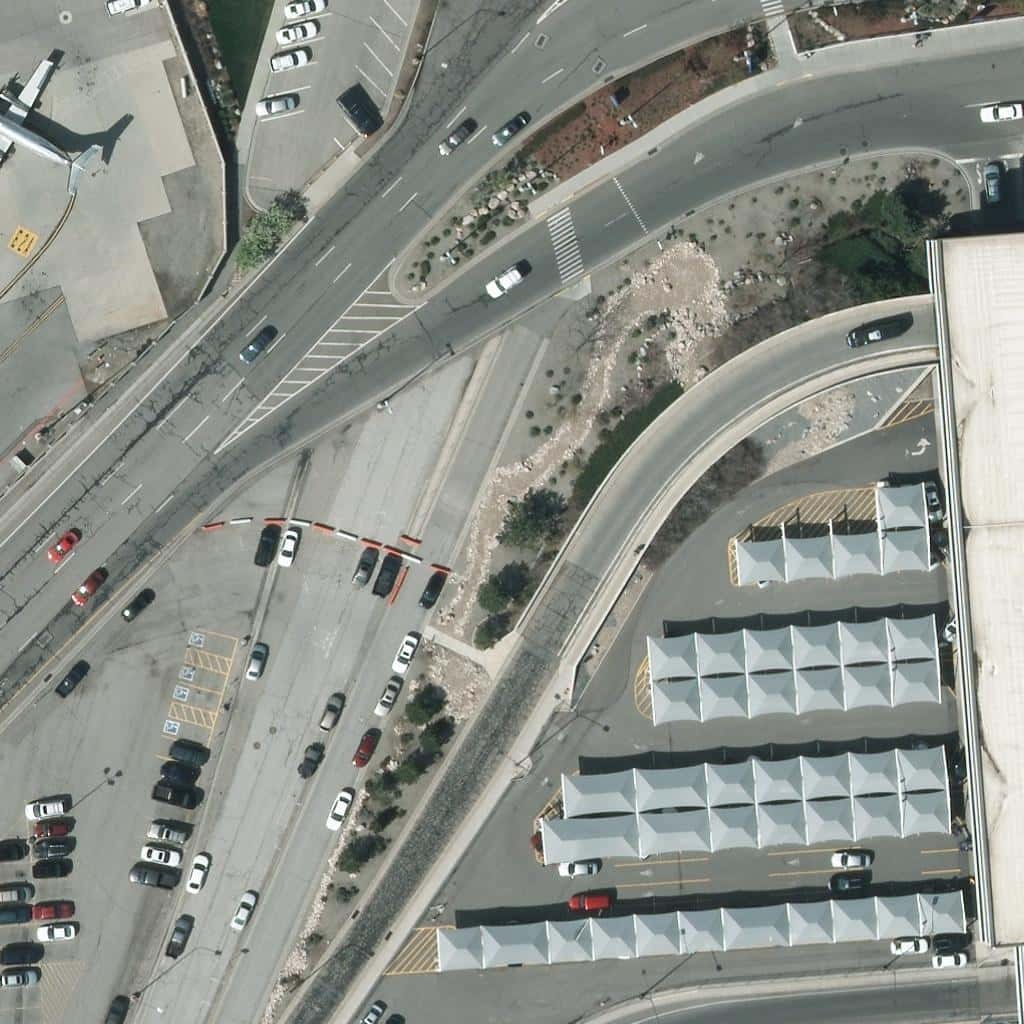plane: (1, 40, 106, 193)
